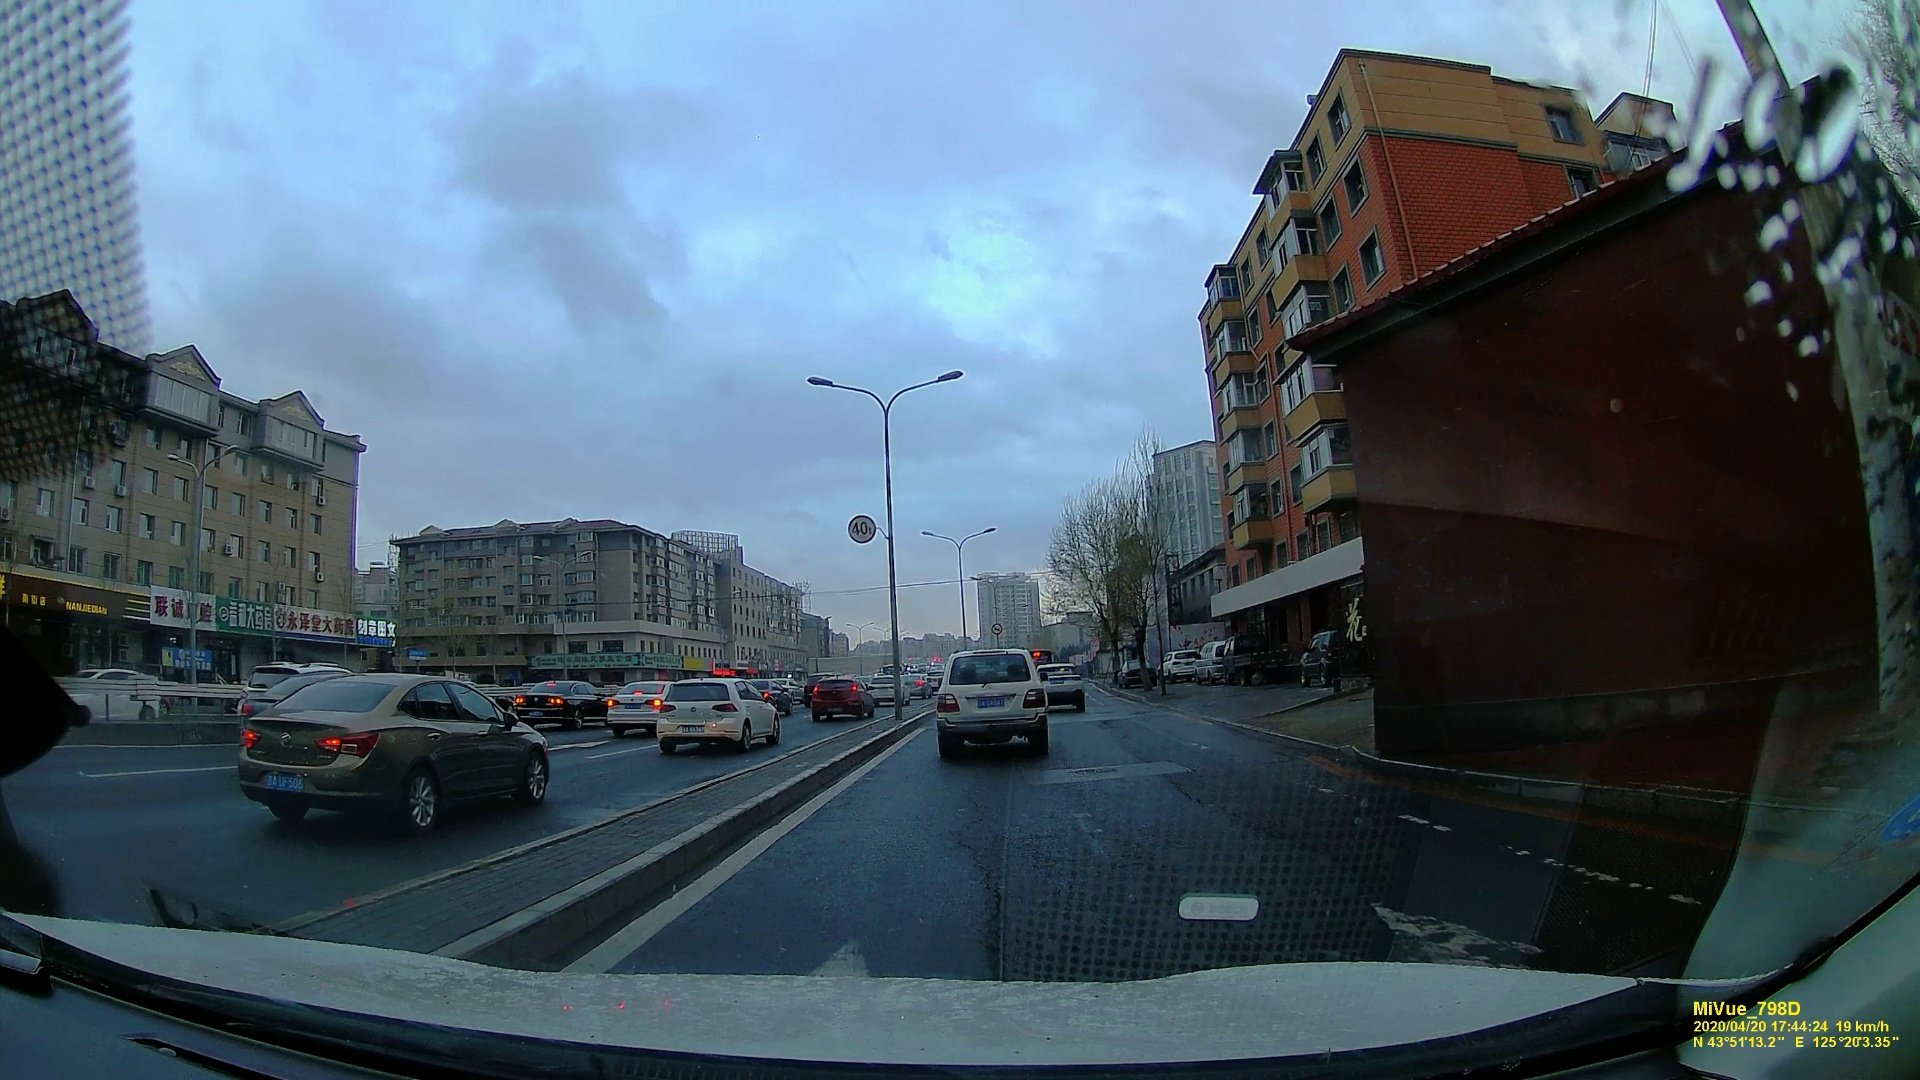traffic_sign: (845, 512, 877, 545)
vehicle: (223, 665, 556, 835), (928, 651, 1050, 758), (649, 678, 781, 753), (512, 683, 607, 725), (607, 679, 671, 735), (806, 676, 876, 721)
